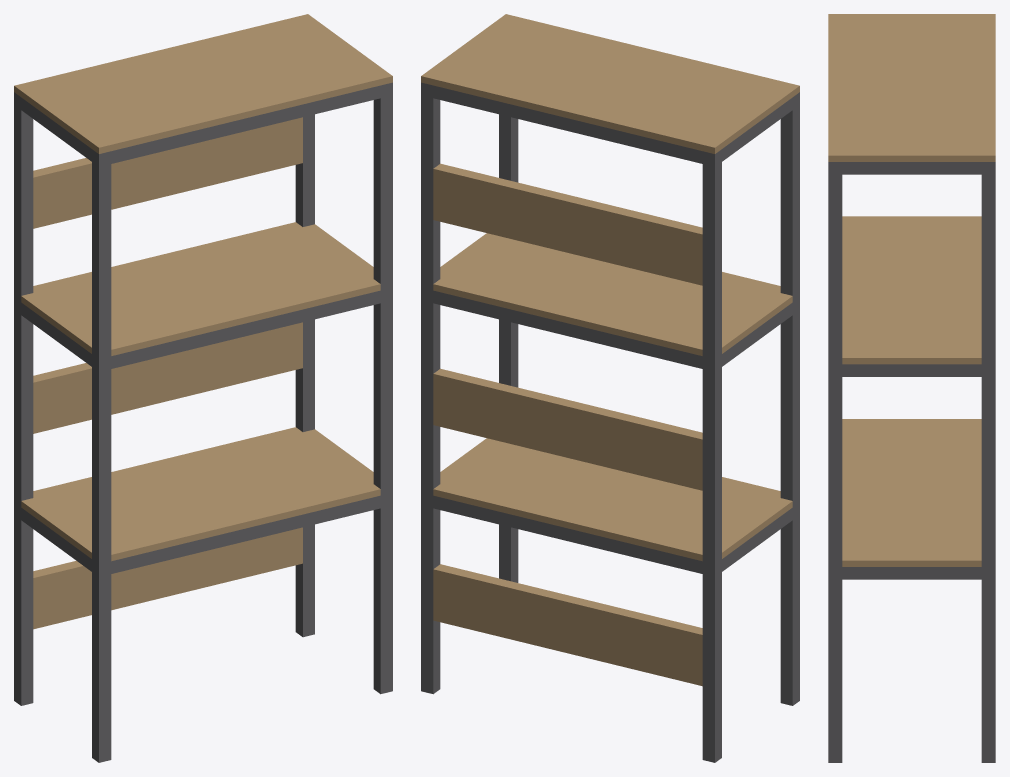
File: StorageRack.fbx
3 renders of one model, left to right at view 1: azimuth 30°, elevation 25°; view 2: azimuth 150°, elevation 25°; view 3: azimuth 270°, elevation 25°, orthographic.
Visible parts, largest first — view 1: StorageRack; view 2: StorageRack; view 3: StorageRack.
Part boxes in pixels (box(x1,y1,x2,y2)): StorageRack: box(14, 14, 392, 762); StorageRack: box(421, 14, 799, 762); StorageRack: box(828, 14, 995, 762).
Size of the model in its own units: 1.2 by 2.4 by 0.6.
